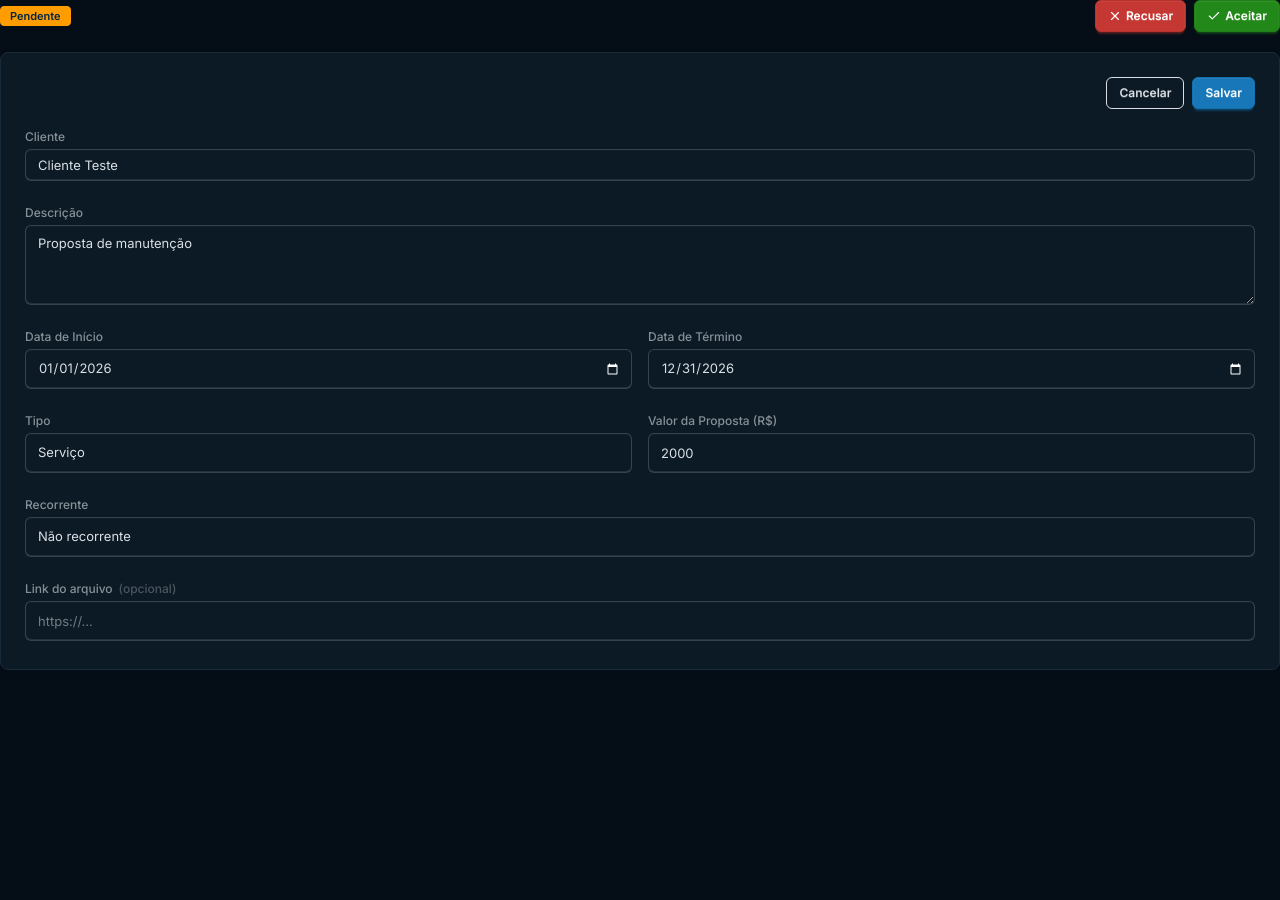
Test case: shows accept/reject buttons for admin when proposal is pending, and opens accept modal
The image size is (1280, 900).
Click the button "Aceitar". click: click(1237, 16)
box: [1194,0,1279,32]
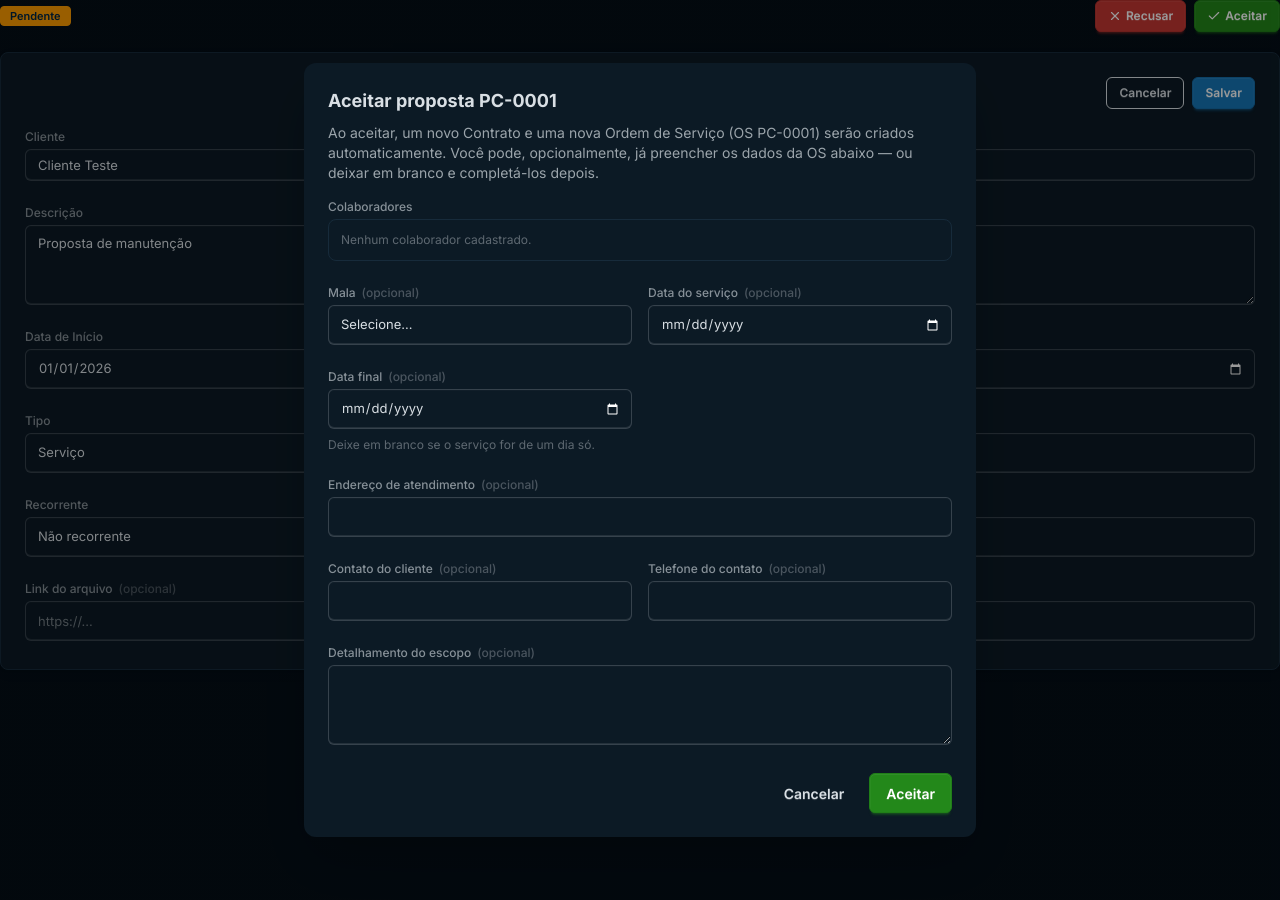
Expected: the heading "Aceitar proposta PC-0001" is shown, [328,90,557,111]
